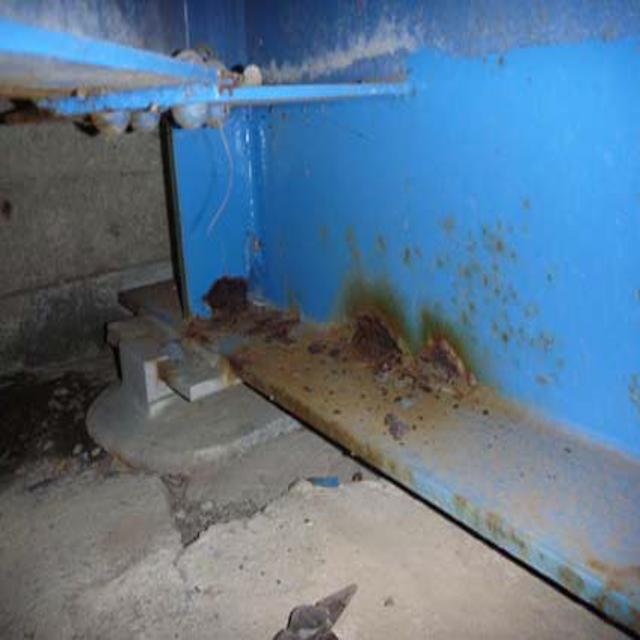corrosion: (172, 238, 482, 453)
